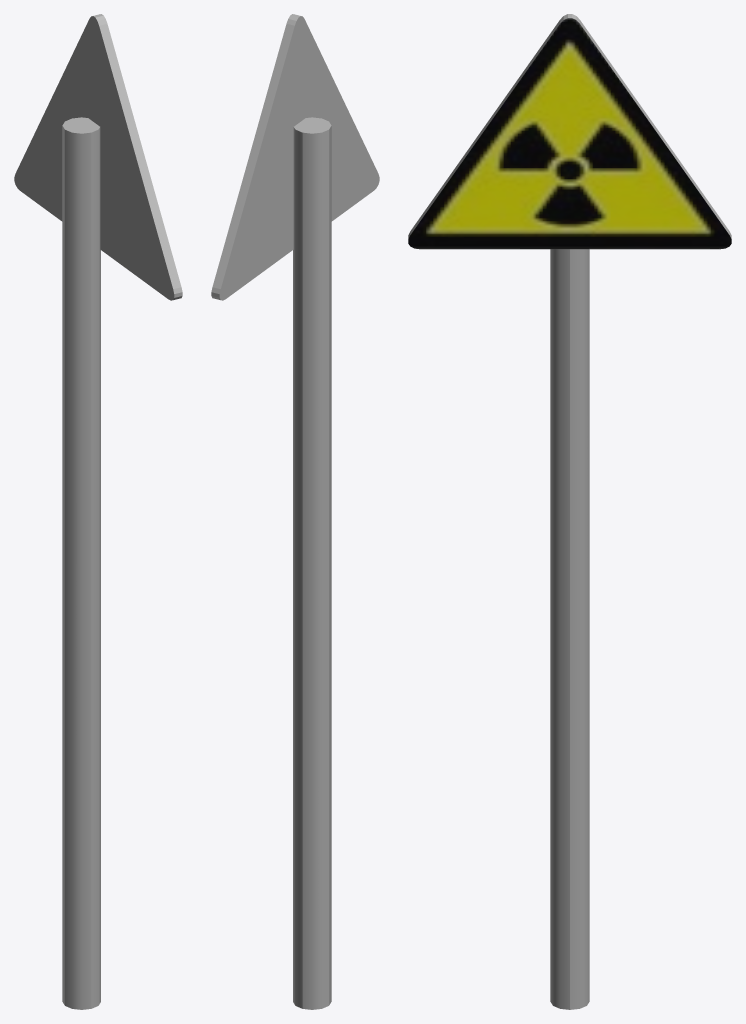
File: rambu 5.fbx
The picture shows the model from 3 angles, left to right: view 1: azimuth 30°, elevation 25°; view 2: azimuth 150°, elevation 25°; view 3: azimuth 270°, elevation 25°; orthographic projection.
Visible parts, largest first — view 1: Cylinder.025, Cylinder.024; view 2: Cylinder.025, Cylinder.024; view 3: Cylinder.024, Cylinder.025.
Boxes of the visible parts, x1=… form: Cylinder.025: x1=62, y1=117, x2=100, y2=1009; Cylinder.024: x1=14, y1=14, x2=182, y2=300; Cylinder.025: x1=293, y1=117, x2=331, y2=1009; Cylinder.024: x1=211, y1=14, x2=379, y2=300; Cylinder.024: x1=408, y1=14, x2=731, y2=249; Cylinder.025: x1=550, y1=249, x2=589, y2=1009.
Size of the model in its own units: 9 by 224 by 66.13.
2 materials, 1 textured.
